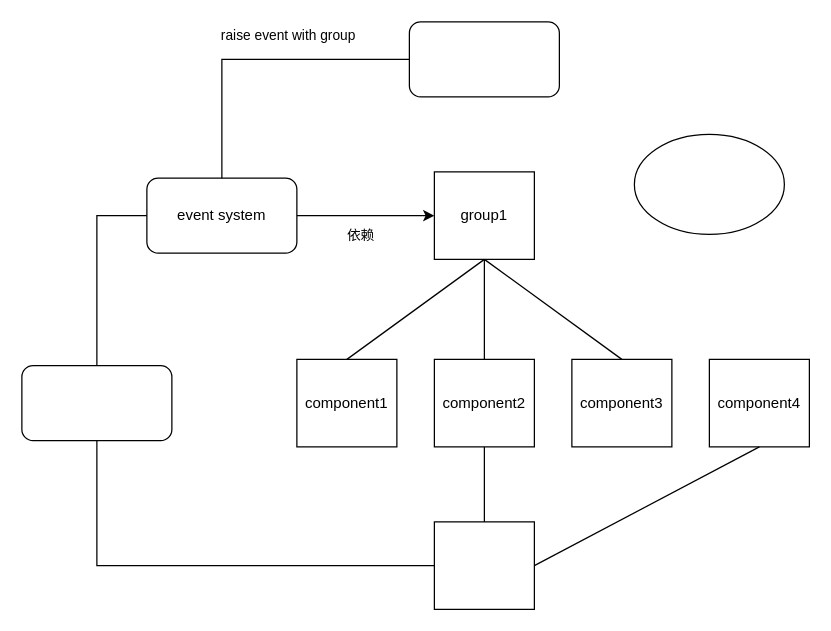
Some shapes in this 831 by 631 pixel diagram are drawn without their labels. The box of each missing label's shape, as (x1, y1, x2, y2) in pixels:
group2: (433, 521, 534, 609)
system x: (21, 364, 172, 441)
system1: (408, 21, 559, 97)
